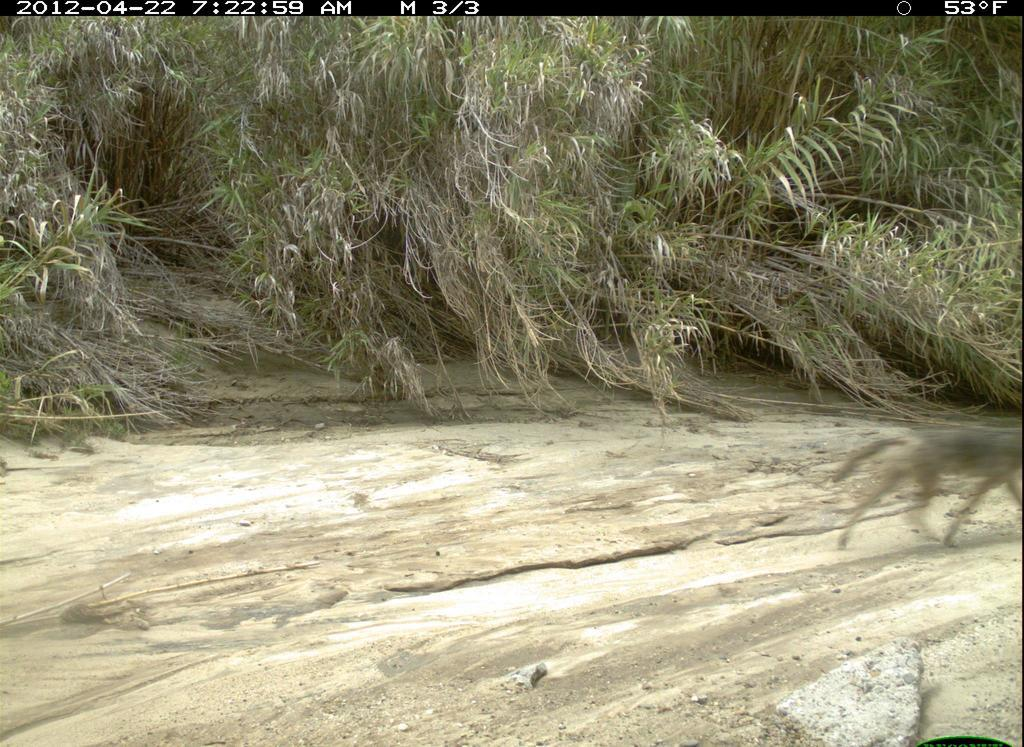coyote: (822, 423, 1023, 550)
